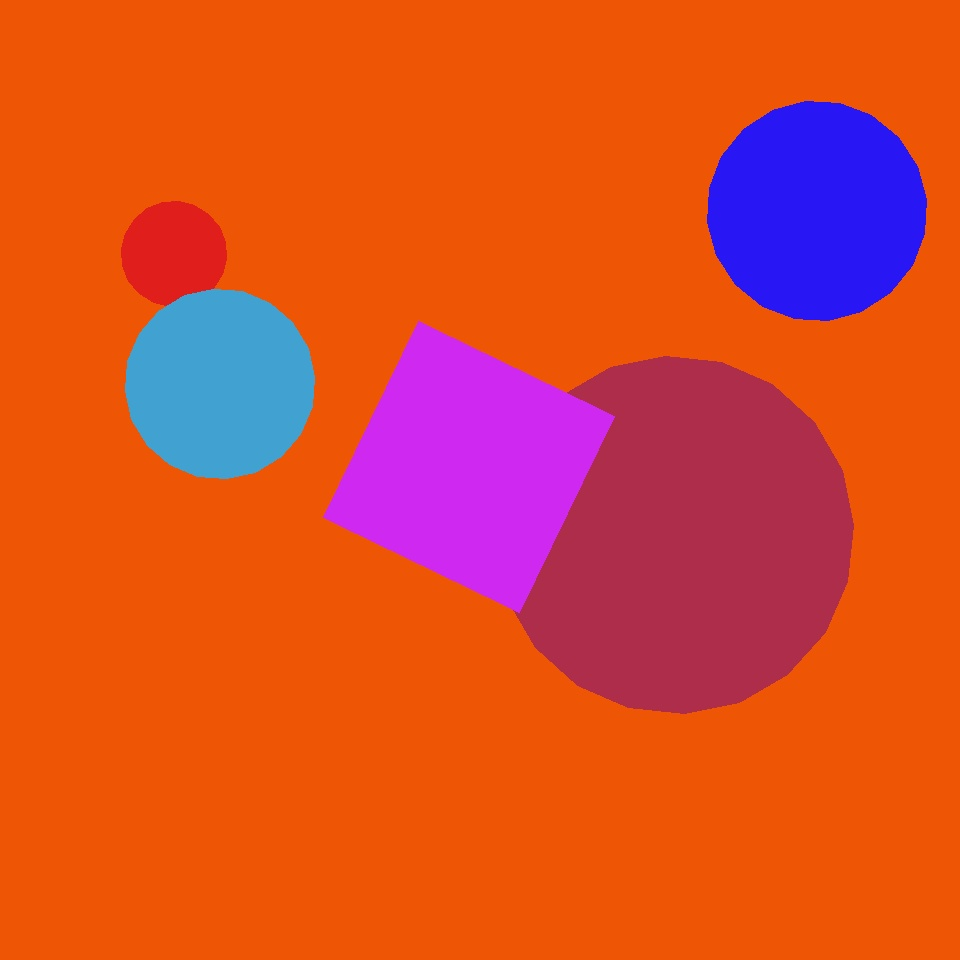circle: (98, 58, 348, 292)
square: (39, 550, 379, 890), (324, 322, 614, 612)
triangle: (496, 356, 854, 714), (708, 102, 926, 320), (126, 290, 314, 479), (122, 202, 226, 306)
